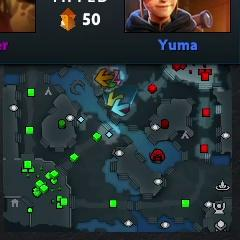x1: (112, 70, 121, 86)
x2: (106, 93, 124, 108)
x3: (111, 100, 129, 117)
x4: (107, 82, 118, 91)
x5: (95, 69, 113, 88)
